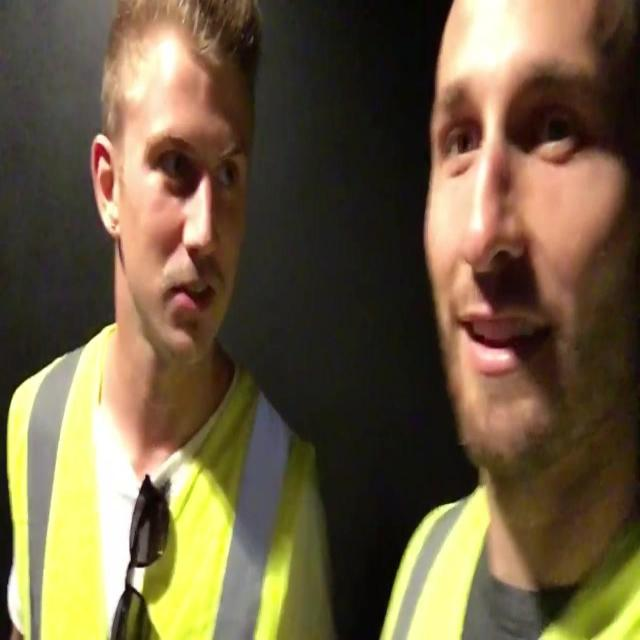Reflective-Jacket: (0, 323, 324, 638), (375, 482, 640, 640)
Safety-Helmet: (424, 0, 640, 151)
